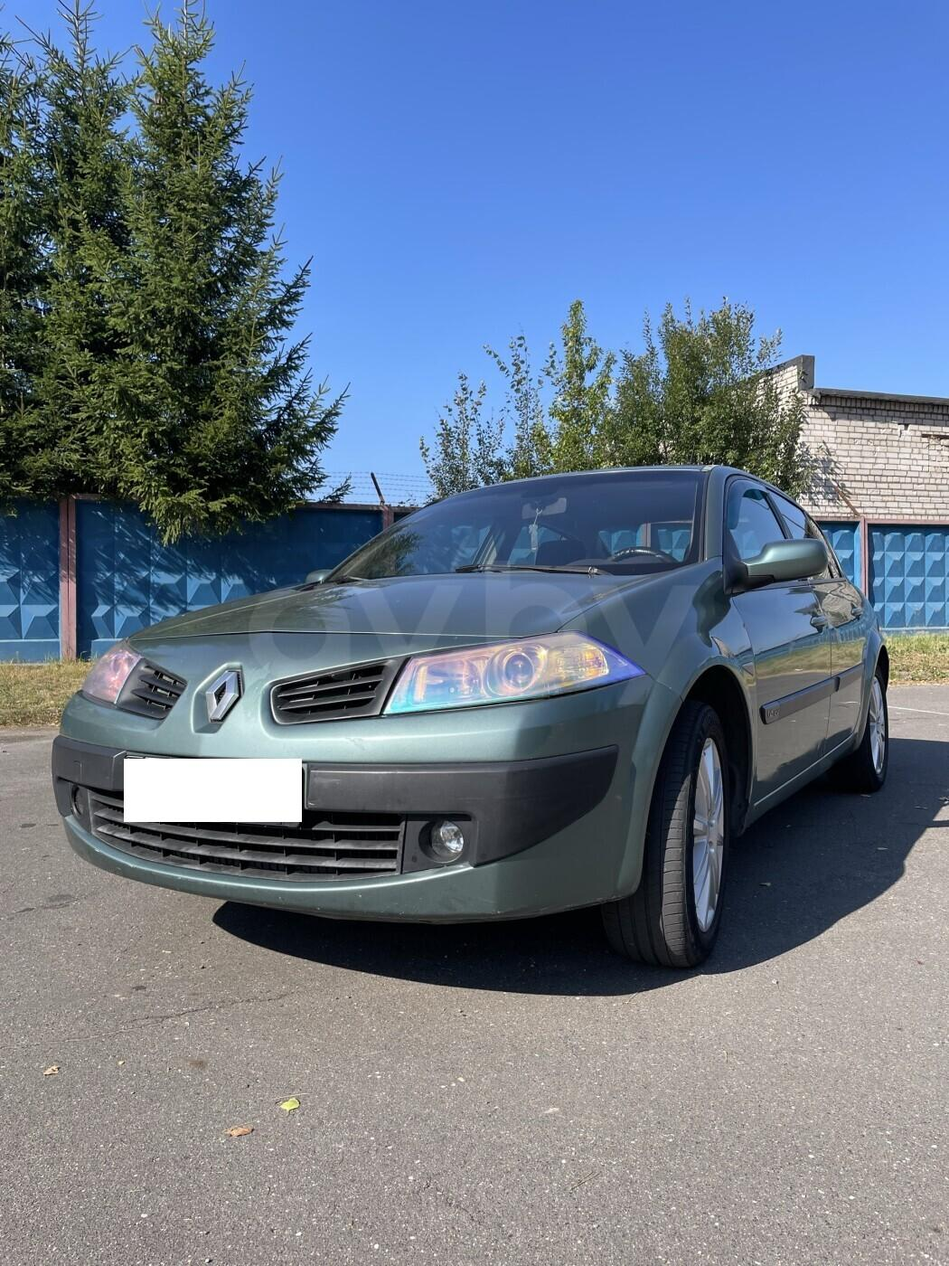Megane_2005-2009: (54, 459, 898, 960)
